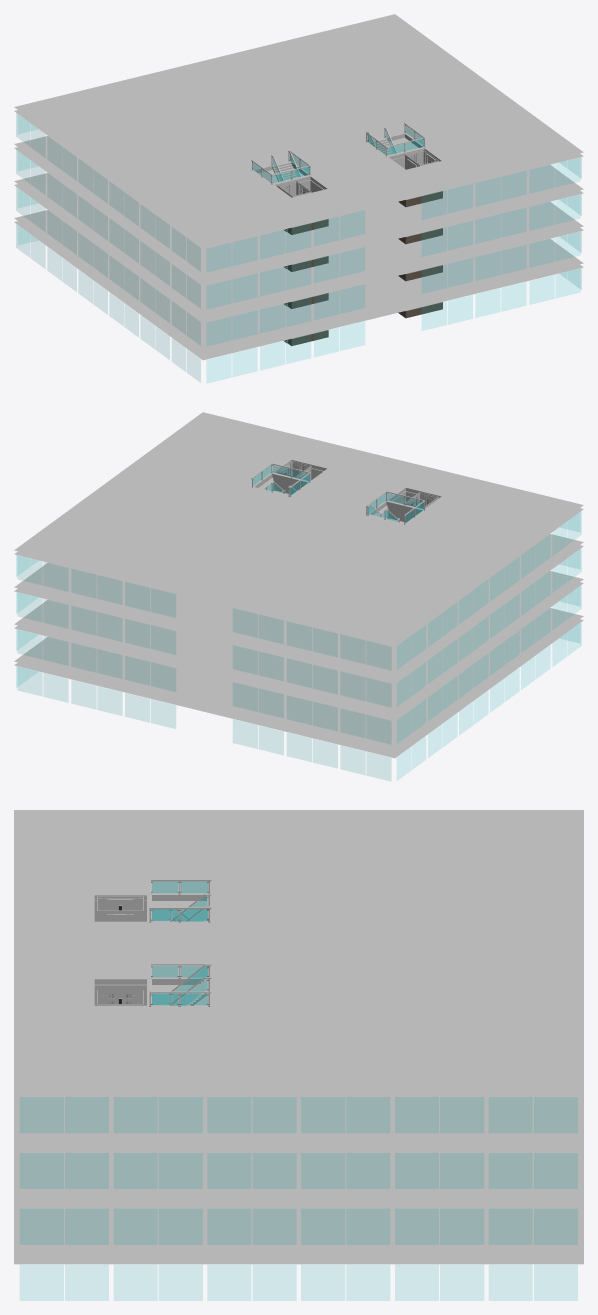
File: Building05_Interior02.fbx
3 renders of one model, top to bottom at view 1: azimuth 30°, elevation 25°; view 2: azimuth 150°, elevation 25°; view 3: azimuth 270°, elevation 25°, orthographic. The views are drawn at different scales.
Parts seen in each view (by area): view 1: Building05_Interior02; view 2: Building05_Interior02; view 3: Building05_Interior02.
Part boxes in pixels (<box>): Building05_Interior02: <box>14,14,583,382</box>; Building05_Interior02: <box>14,412,583,780</box>; Building05_Interior02: <box>14,810,583,1300</box>.
Size of the model in its own units: 4364 by 1727 by 3747.
